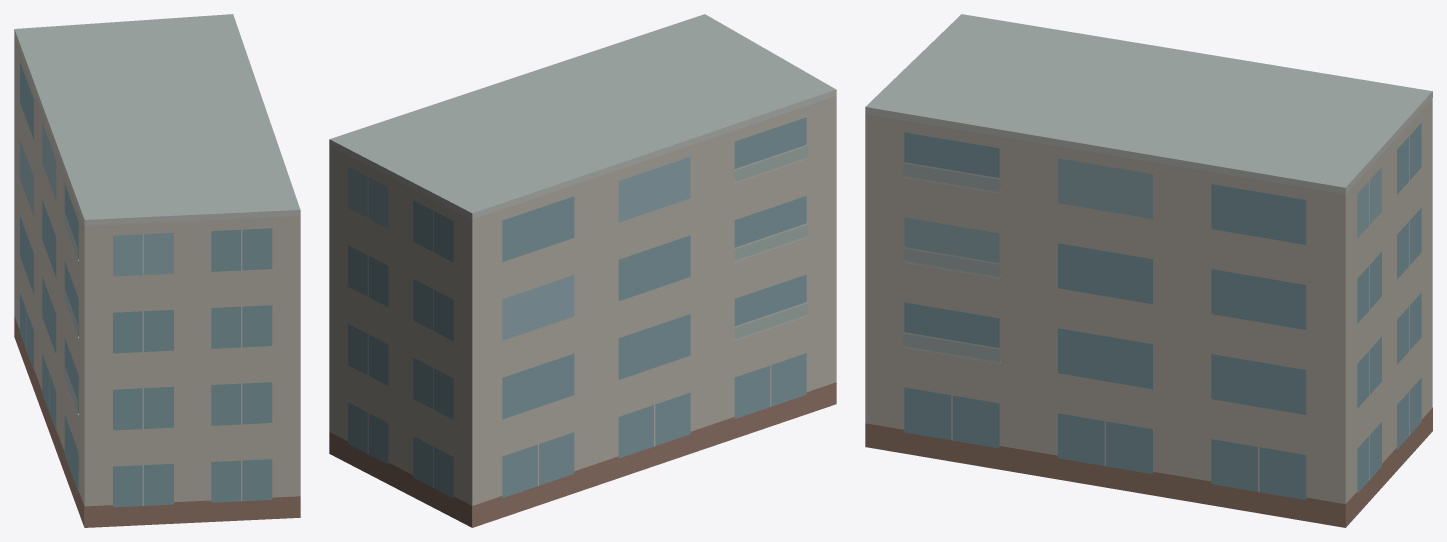
The model's file is survey-upis-32876955.glb.
3 renders of one model, left to right at view 1: azimuth 30°, elevation 25°; view 2: azimuth 150°, elevation 25°; view 3: azimuth 270°, elevation 25°, orthographic. The views are drawn at different scales.
Visible parts, largest first — view 1: survey-upis-32876955.tmp; view 2: survey-upis-32876955.tmp; view 3: survey-upis-32876955.tmp.
Part boxes in pixels (box(x1,y1,x2,y2)): survey-upis-32876955.tmp: box(14, 14, 300, 527); survey-upis-32876955.tmp: box(329, 14, 836, 527); survey-upis-32876955.tmp: box(865, 14, 1432, 527).
Bounding box in the file's own units: 13.38 × 12.2 × 18.46.
